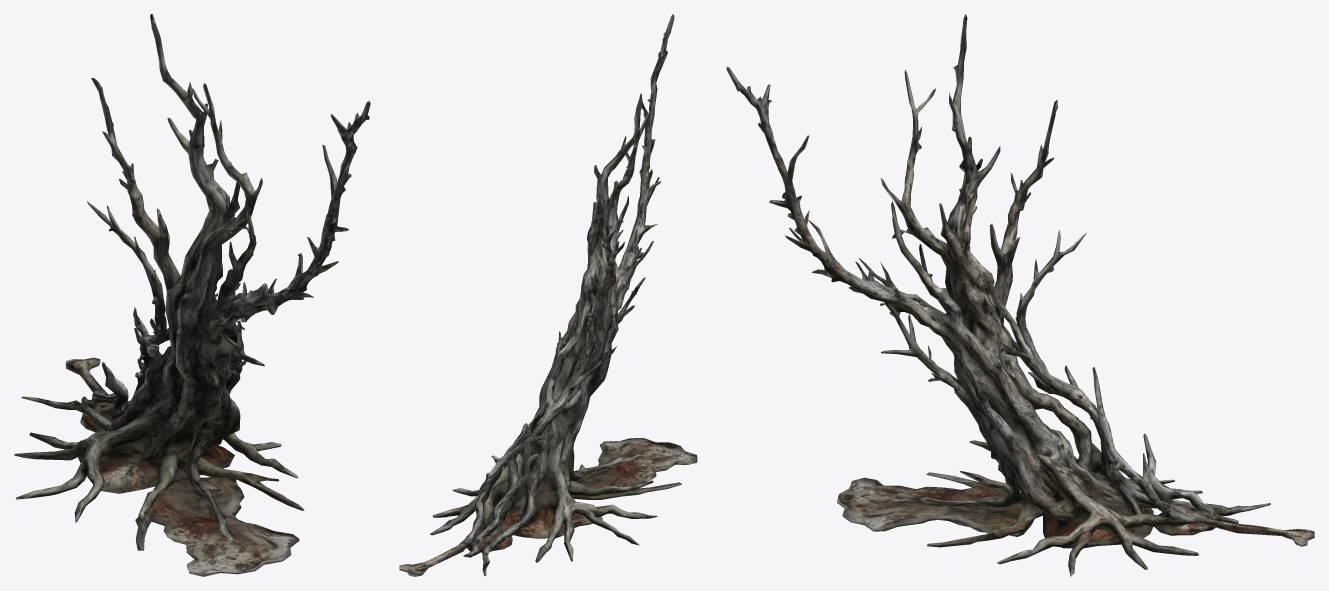
Rendered from dead-tree.glb.
3 views of the same model, side by side, from view 1: azimuth 30°, elevation 25°; view 2: azimuth 150°, elevation 25°; view 3: azimuth 270°, elevation 25° (orthographic). The views are drawn at different scales.
Parts seen in each view (by area): view 1: Landscape asset / dead-tree; view 2: Landscape asset / dead-tree; view 3: Landscape asset / dead-tree.
Part boxes in pixels (bbox=[...]): Landscape asset / dead-tree: bbox=[14, 14, 370, 576]; Landscape asset / dead-tree: bbox=[399, 14, 697, 576]; Landscape asset / dead-tree: bbox=[726, 14, 1314, 576].
Size of the model in its own units: 0.4602 by 0.8985 by 1.
Materials: 1 (1 with a texture image).
